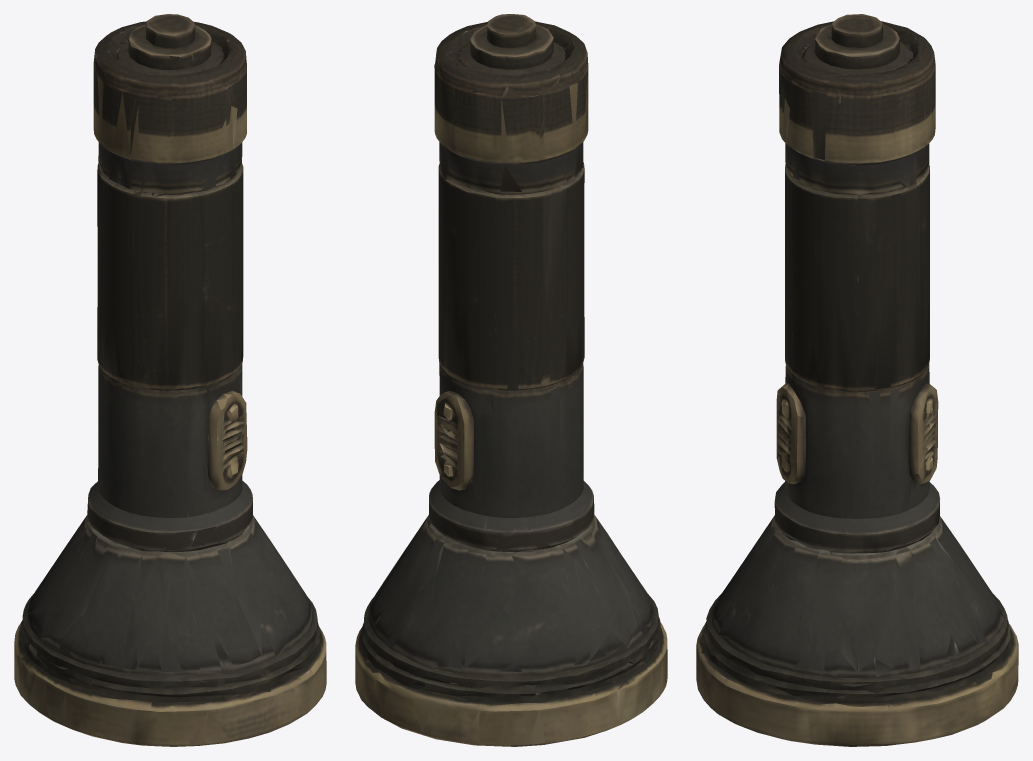
The picture shows the model from 3 angles, left to right: view 1: azimuth 30°, elevation 25°; view 2: azimuth 150°, elevation 25°; view 3: azimuth 270°, elevation 25°; orthographic projection.
Parts seen in each view (by area): view 1: flashlight; view 2: flashlight; view 3: flashlight.
Part boxes in pixels (x1,y1,x2,y2): flashlight: [14, 14, 326, 746]; flashlight: [355, 14, 667, 746]; flashlight: [696, 14, 1018, 746].
Size of the model in its own units: 10.08 by 24 by 10.51.
1 material, 1 textured.
